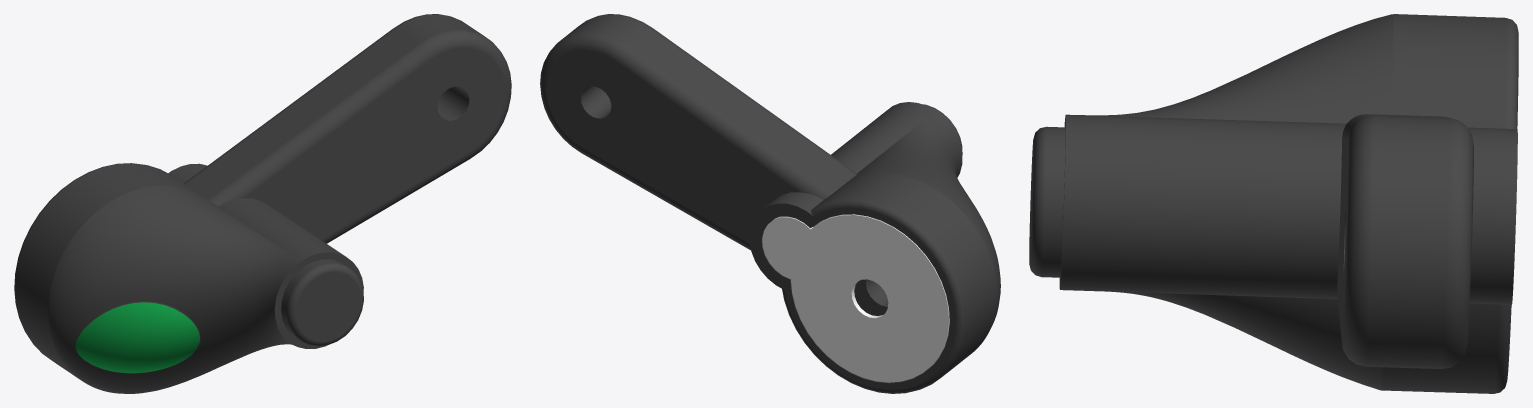
The model's file is Leg.gltf.
The picture shows the model from 3 angles, left to right: view 1: azimuth 30°, elevation 25°; view 2: azimuth 150°, elevation 25°; view 3: azimuth 270°, elevation 25°; orthographic projection. The views are drawn at different scales.
Parts seen in each view (by area): view 1: Solid1; view 2: Solid1; view 3: Solid1.
Boxes of the visible parts, <box> form: Solid1: <box>14,14,511,393</box>; Solid1: <box>540,14,1000,393</box>; Solid1: <box>1029,14,1518,393</box>.
Size of the model in its own units: 0.0716 by 0.0435 by 0.039.
